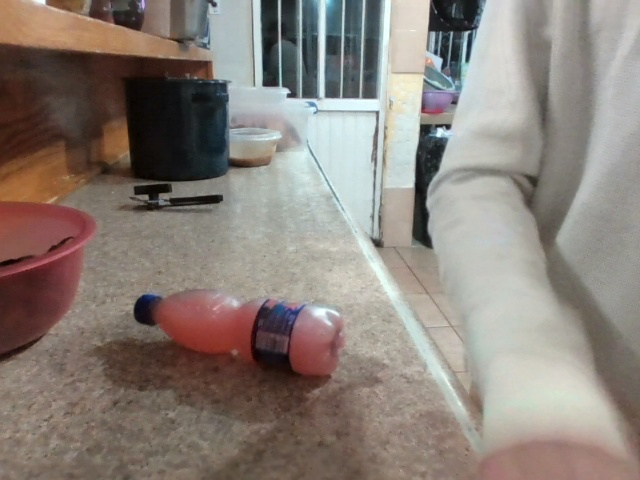botella: (83, 257, 400, 402)
